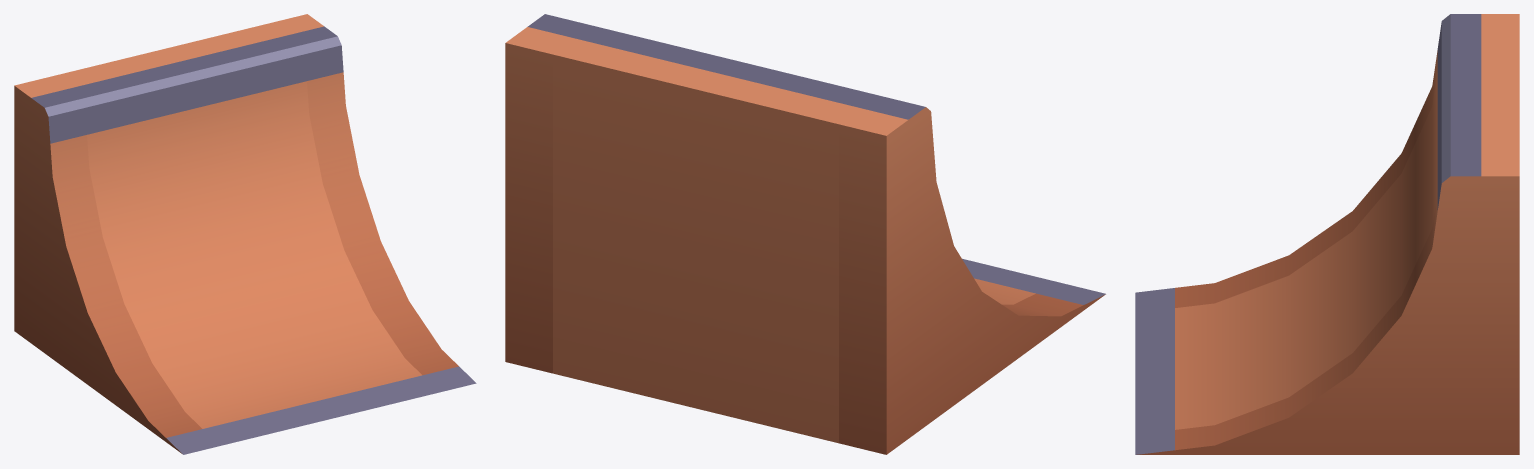
The model's file is half-pipe.fbx.
3 renders of one model, left to right at view 1: azimuth 30°, elevation 25°; view 2: azimuth 150°, elevation 25°; view 3: azimuth 270°, elevation 25°, orthographic. The views are drawn at different scales.
Parts seen in each view (by area): view 1: half-pipe; view 2: half-pipe; view 3: half-pipe.
Part boxes in pixels (box(x1,y1,x2,y2)): half-pipe: box(14, 14, 476, 454); half-pipe: box(505, 14, 1105, 454); half-pipe: box(1135, 14, 1519, 454).
Bounding box in the file's own units: 100 × 80 × 100.
1 material, 1 textured.
